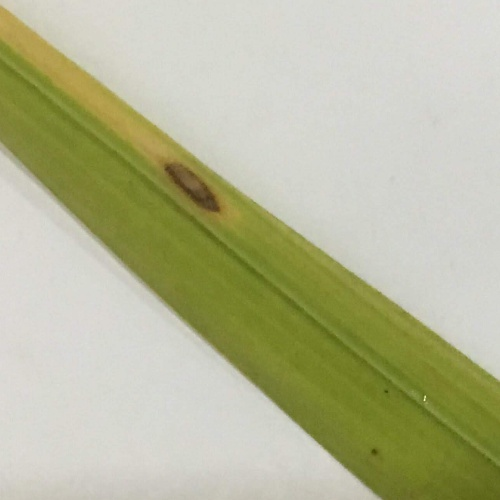Busuk Leher: (156, 156, 226, 213)
